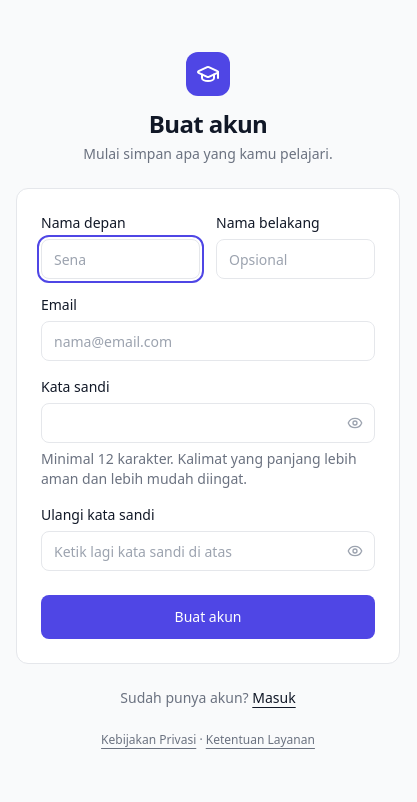
Test: signup validation › checks a field once it has been left
Type "bukan-email" into the field labelled "Email".
click(208, 341); type("bukan-email")  # box [41,321,375,361]
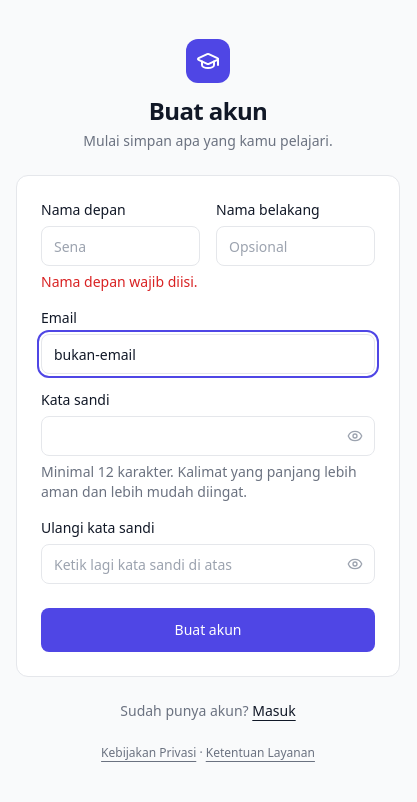
Press Tab
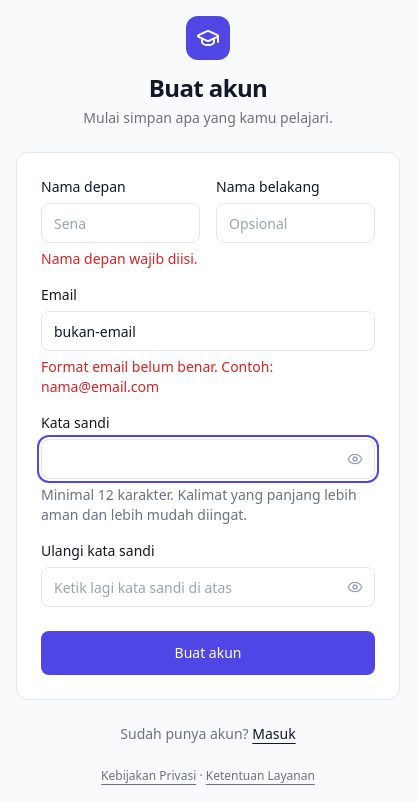
Check: the text "Format email belum benar. Contoh: nama@email.com" is shown, box [41,357,273,396]
